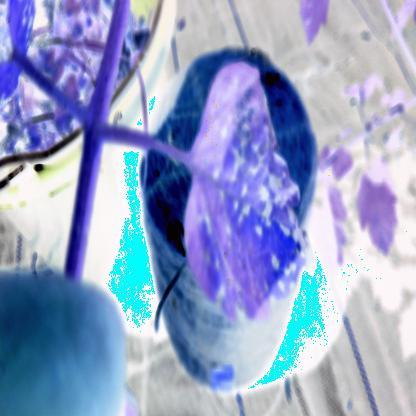Tomato Septoria leaf spot: (174, 56, 314, 352)
